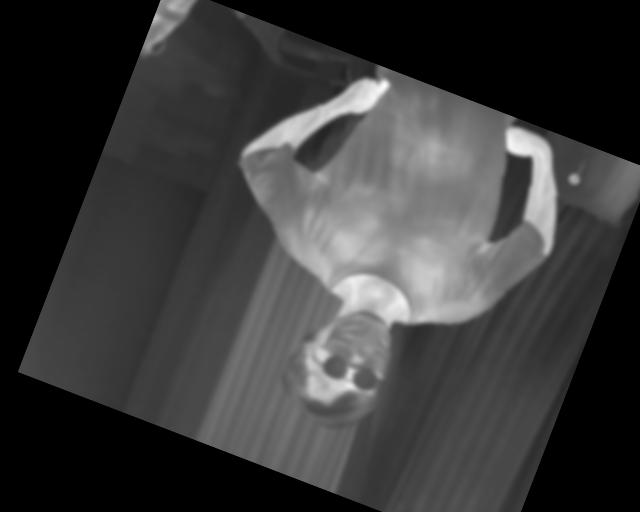face: (268, 262, 374, 382), (357, 255, 454, 369)
